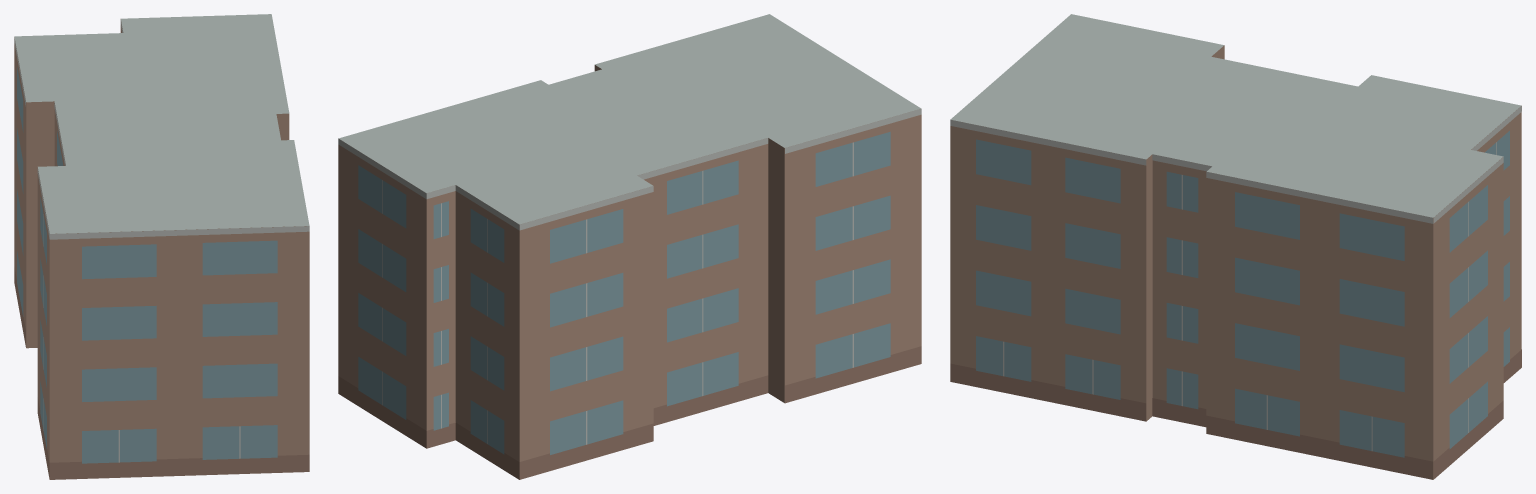
File: survey-upis-32531603.glb
3 renders of one model, left to right at view 1: azimuth 30°, elevation 25°; view 2: azimuth 150°, elevation 25°; view 3: azimuth 270°, elevation 25°, orthographic. The views are drawn at different scales.
Visible parts, largest first — view 1: survey-upis-32531603.tmp; view 2: survey-upis-32531603.tmp; view 3: survey-upis-32531603.tmp.
Part boxes in pixels (x1,y1,x2,y2): survey-upis-32531603.tmp: [14, 14, 309, 479]; survey-upis-32531603.tmp: [338, 14, 921, 479]; survey-upis-32531603.tmp: [950, 14, 1521, 479].
Bounding box in the file's own units: 17.35 × 10.4 × 20.56.
